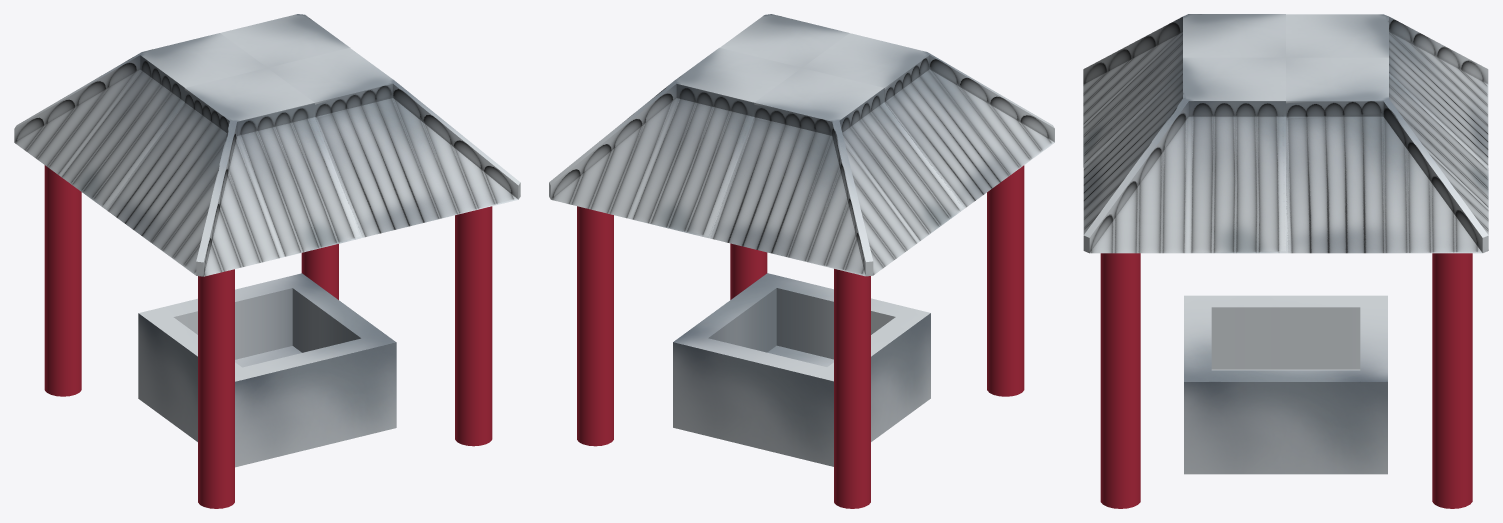
File: Portal.fbx
3 renders of one model, left to right at view 1: azimuth 30°, elevation 25°; view 2: azimuth 150°, elevation 25°; view 3: azimuth 270°, elevation 25°, orthographic. The views are drawn at different scales.
Parts seen in each view (by area): view 1: Plane067; view 2: Plane067; view 3: Plane067.
Part boxes in pixels (x1,y1,x2,y2): Plane067: (14, 14, 520, 508); Plane067: (549, 14, 1054, 508); Plane067: (1083, 14, 1488, 508).
Bounding box in the file's own units: 37.04 × 37.76 × 37.07.
Materials: 3 (3 with a texture image).
